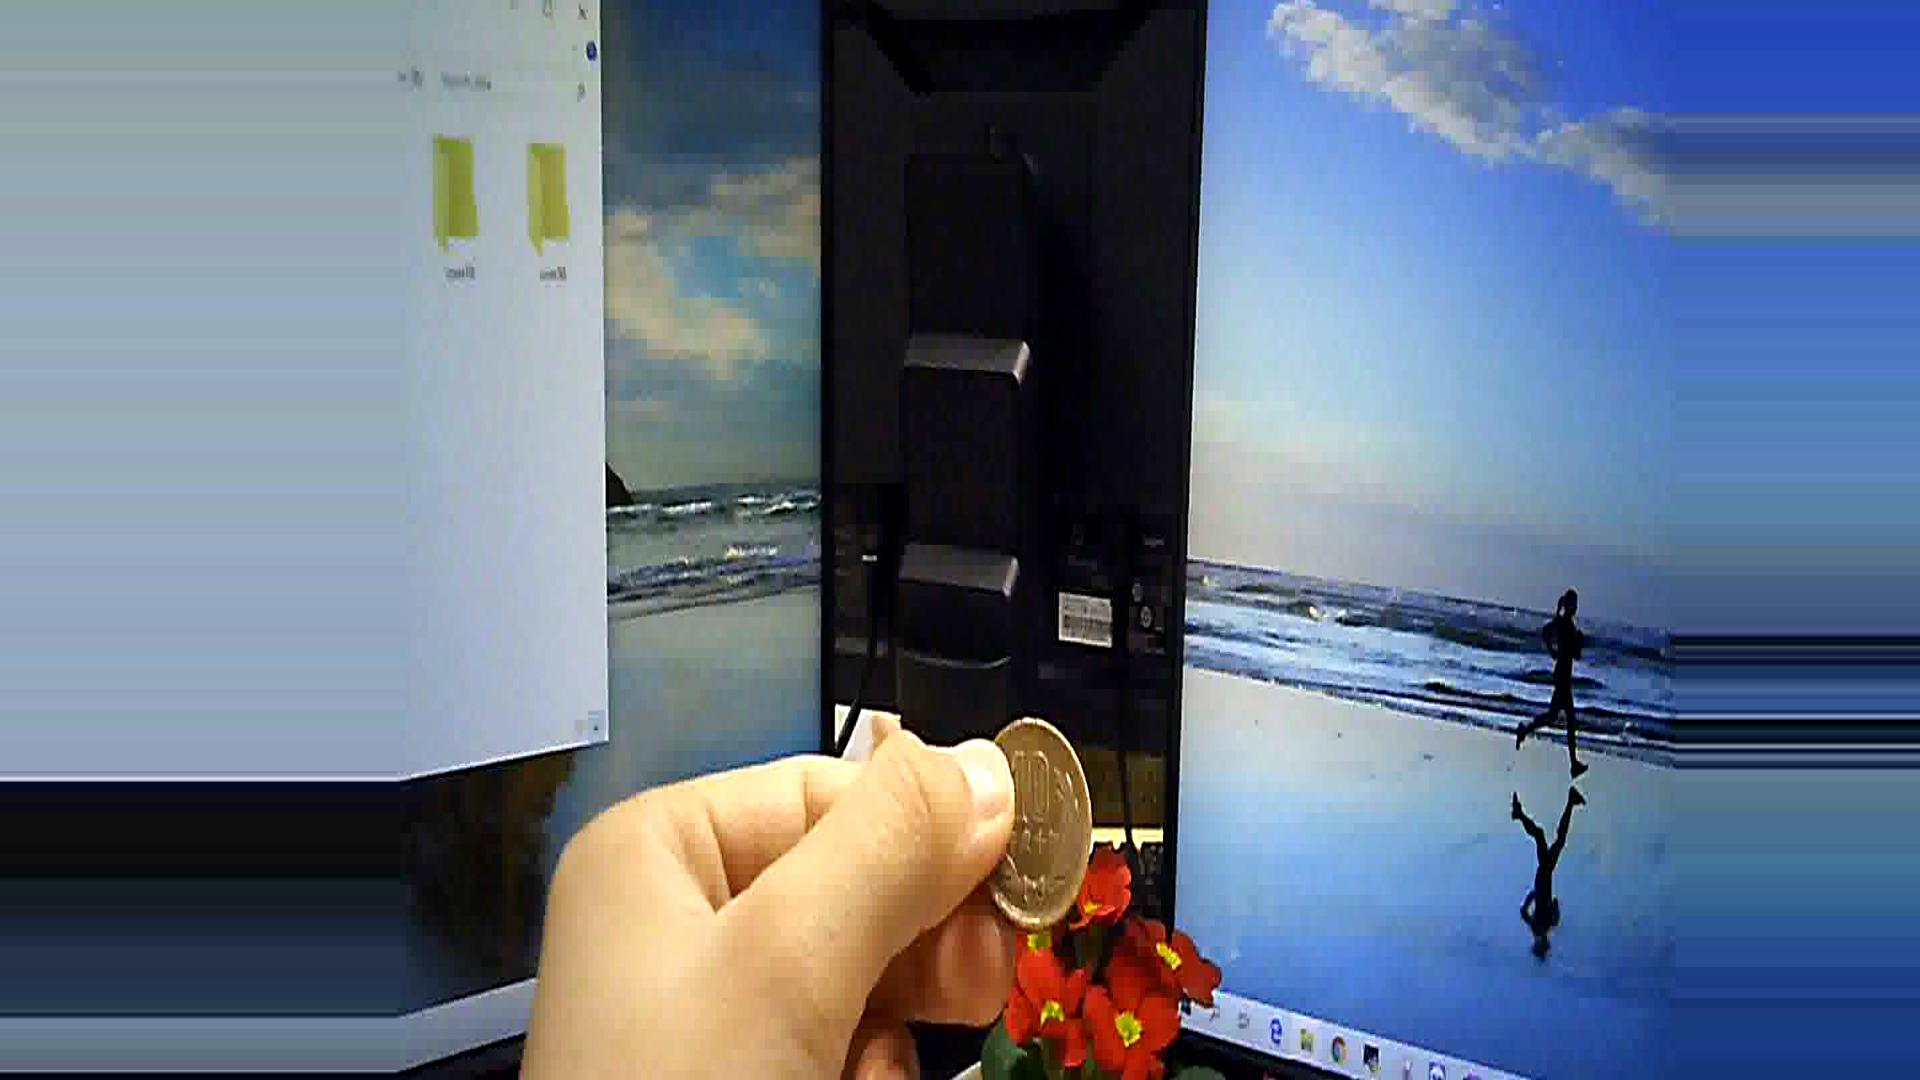10 Yen: (972, 709, 1101, 930)
